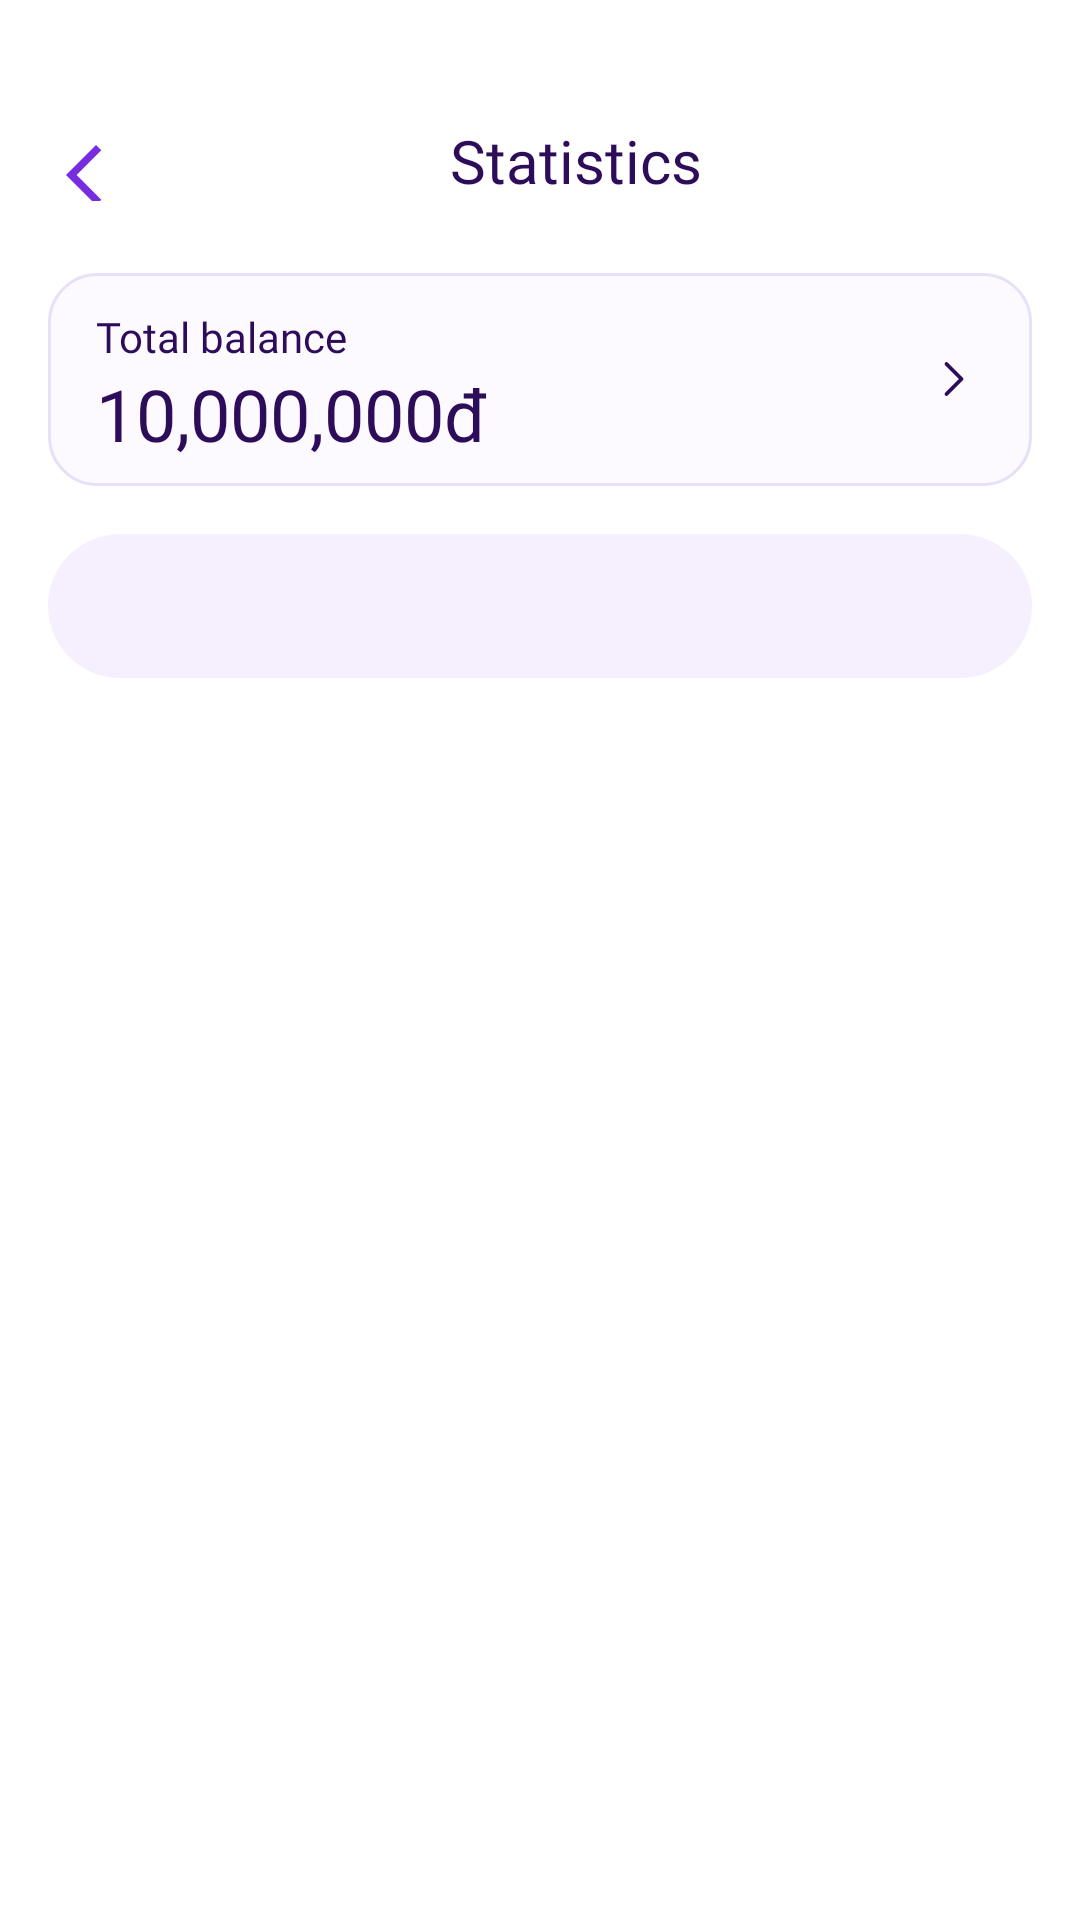

Point at icon controls on the screen. Image size 1080x1920, points as [x,y].
right: [954,379]
